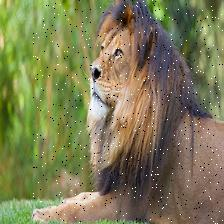Lion: (34, 0, 224, 224)
